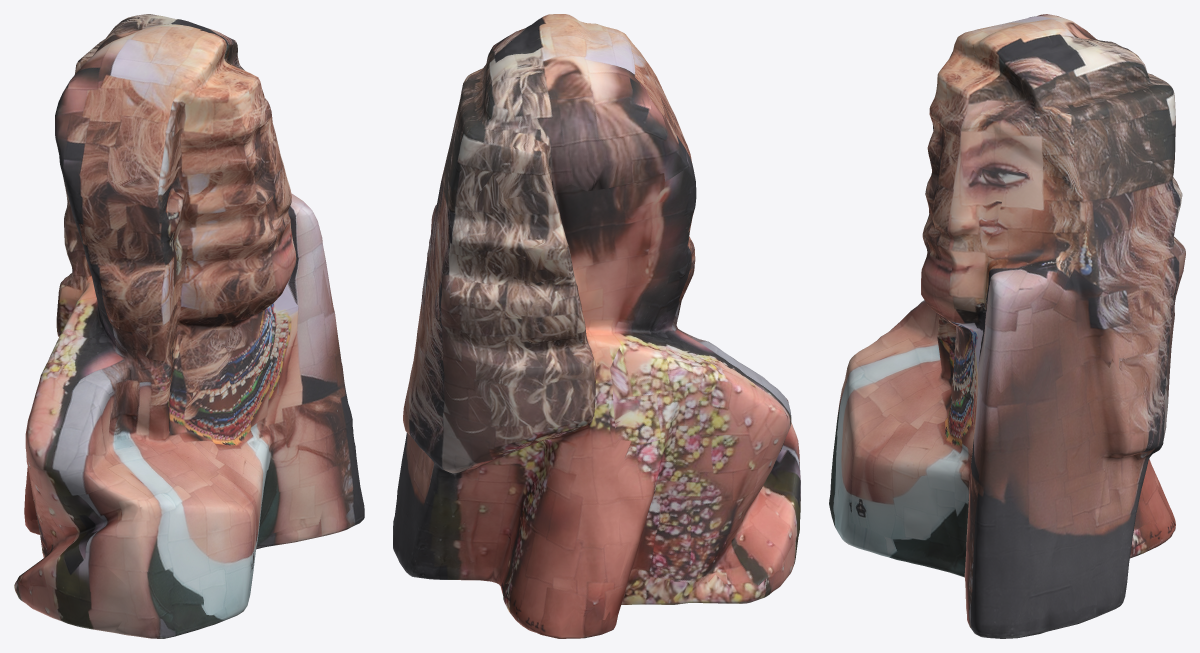
The model's file is 03_bustbk.glb.
3 views of the same model, side by side, from view 1: azimuth 30°, elevation 25°; view 2: azimuth 150°, elevation 25°; view 3: azimuth 270°, elevation 25° (orthographic). The views are drawn at different scales.
Parts seen in each view (by area): view 1: Group65534; view 2: Group65534; view 3: Group65534.
Boxes of the visible parts, x1,y1,x2,y2 form: Group65534: (14, 14, 364, 638); Group65534: (393, 14, 800, 638); Group65534: (829, 14, 1185, 638).
Size of the model in its own units: 4.83 by 6.82 by 4.18.
Materials: 1 (1 with a texture image).
